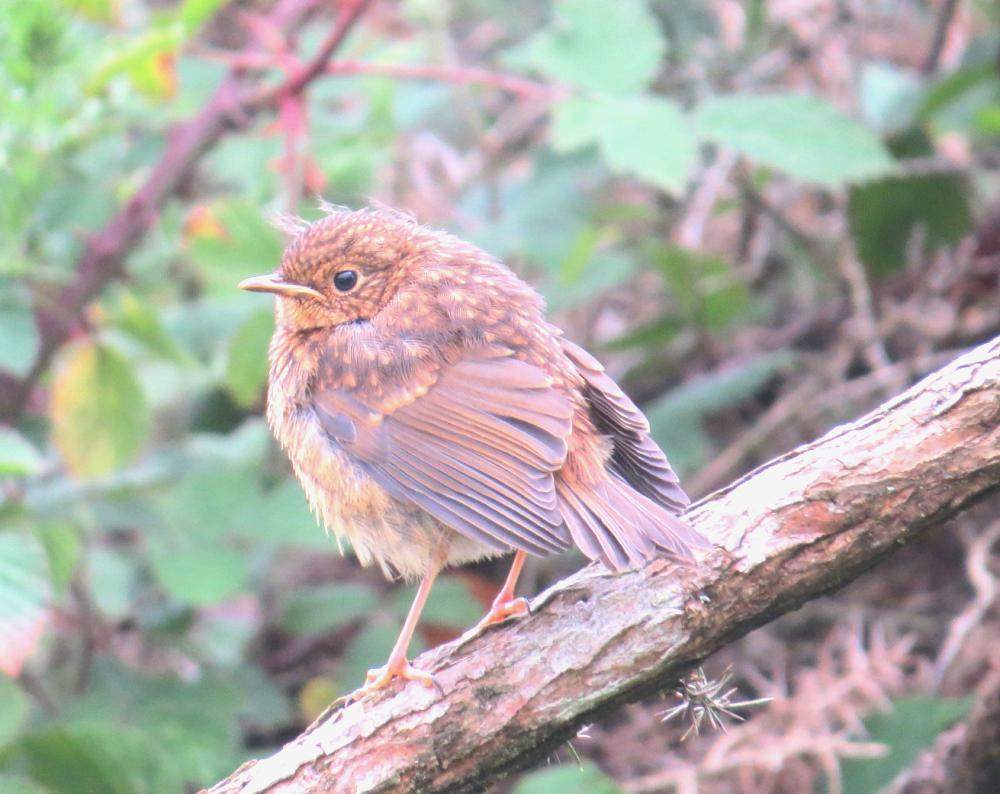ErithacusRubecula: (238, 192, 713, 708)
